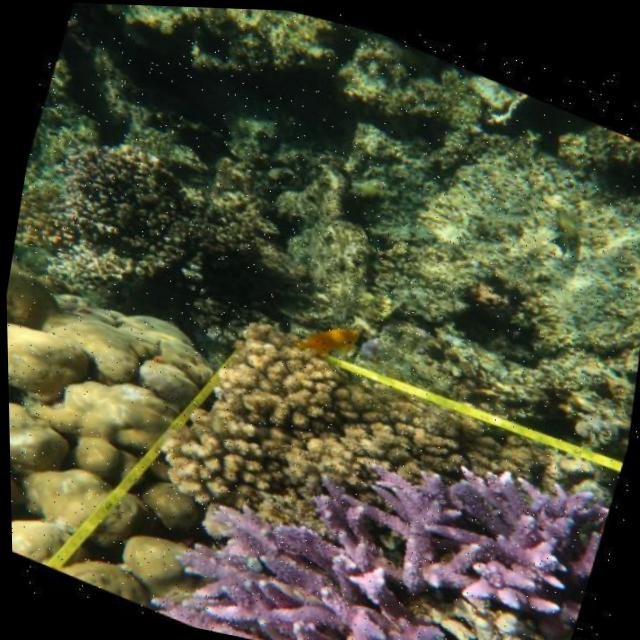Healthy Coral: (137, 325, 633, 640)
